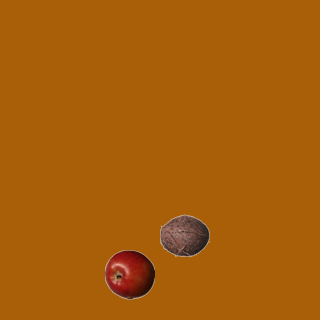Apple Braeburn: (104, 249, 154, 299)
Cocos: (159, 210, 209, 260)
